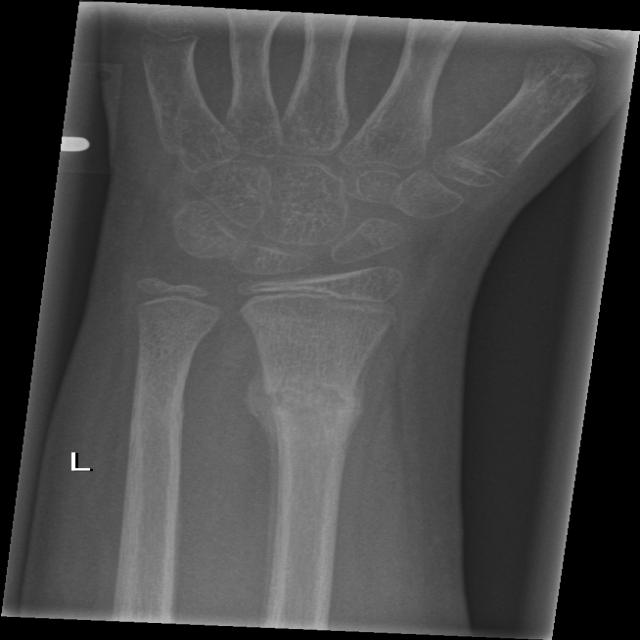radius fracture: (233, 349, 382, 477)
